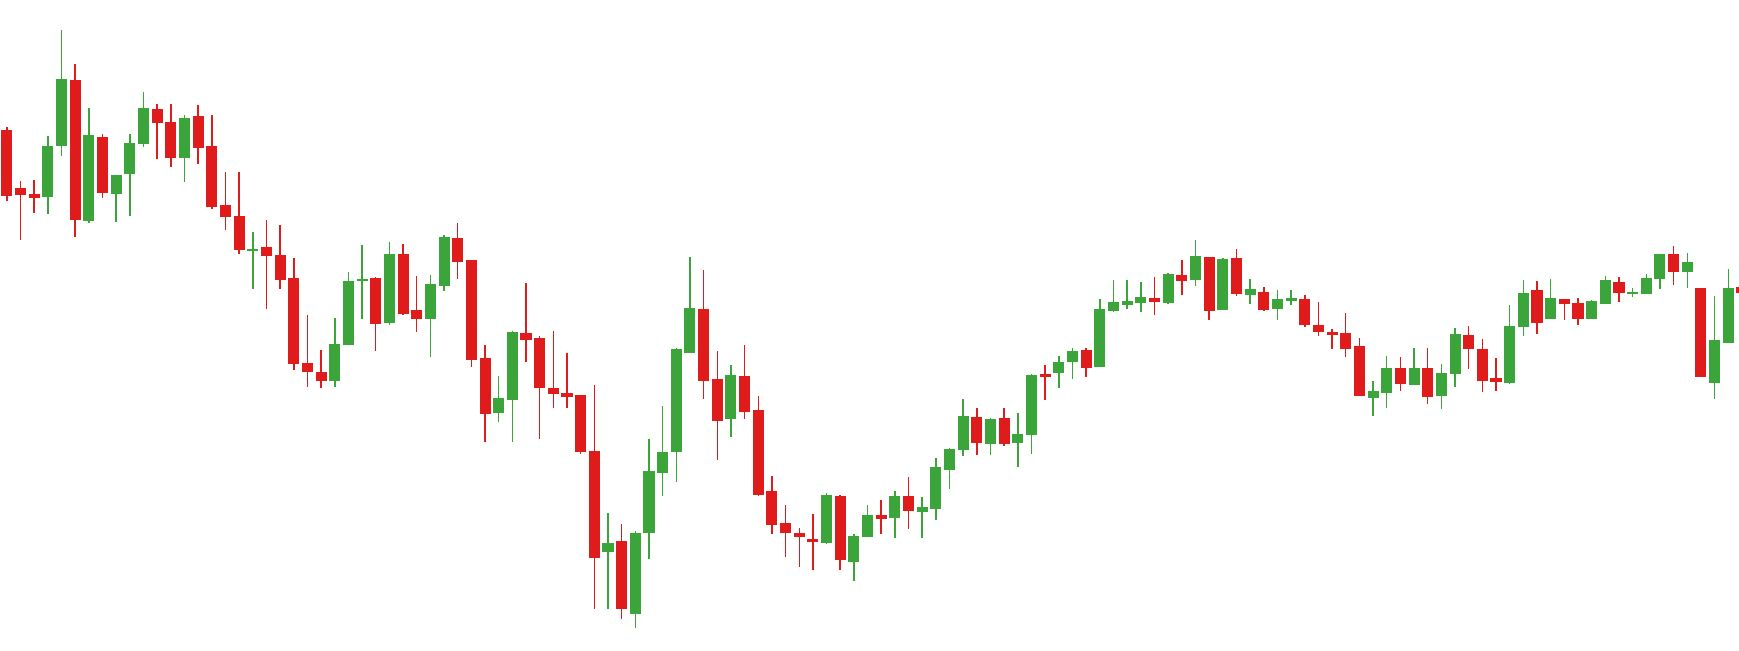sell: (517, 260, 698, 447)
